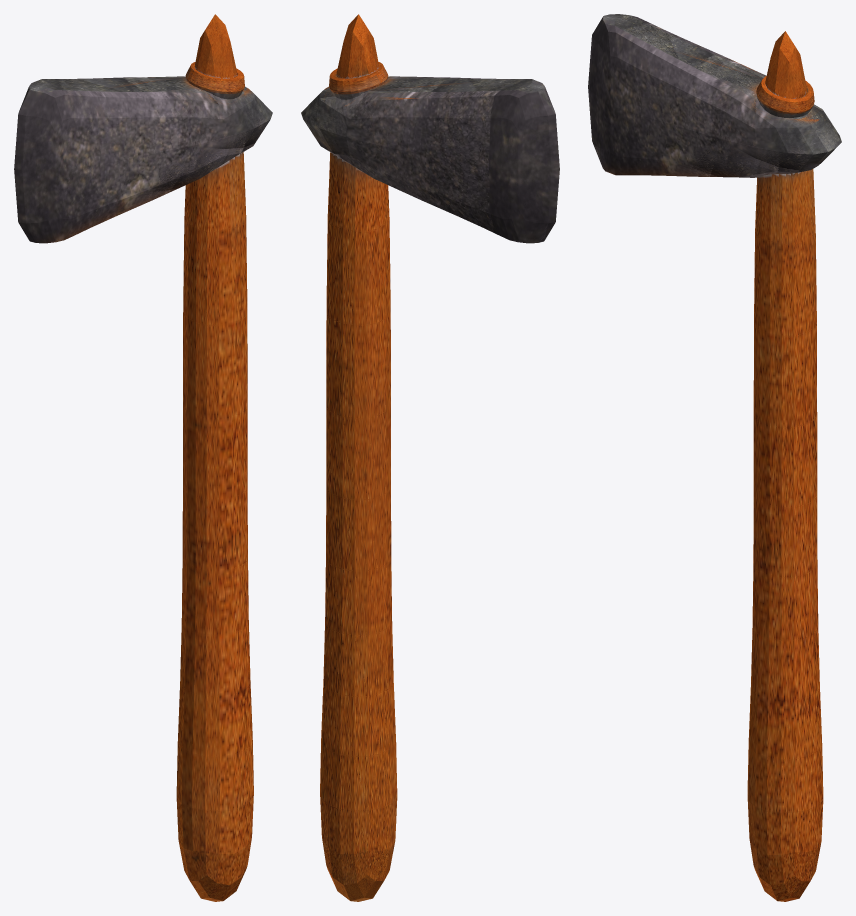
File: Stone_Axe_1.obj
3 renders of one model, left to right at view 1: azimuth 30°, elevation 25°; view 2: azimuth 150°, elevation 25°; view 3: azimuth 330°, elevation 25°, orthographic.
Parts seen in each view (by area): view 1: Torus; view 2: Torus; view 3: Torus.
Part boxes in pixels (x1,y1,x2,y2): Torus: (14, 14, 272, 901); Torus: (301, 14, 559, 901); Torus: (588, 14, 841, 901).
Size of the model in its own units: 1.08 by 3.61 by 0.307.
1 material, 1 textured.
